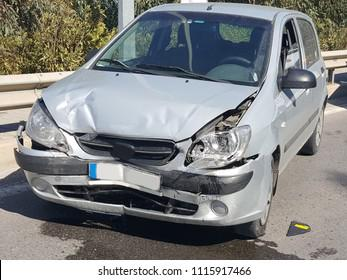bonnet-dent: (39, 73, 255, 143)
front-bumper-dent: (9, 126, 267, 218)
